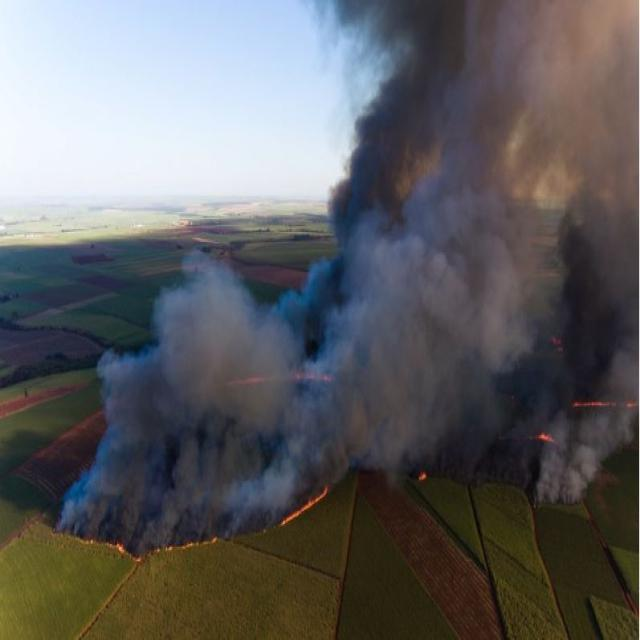Fire: (281, 478, 331, 526), (160, 537, 197, 553), (106, 535, 130, 557), (574, 395, 614, 408), (538, 426, 558, 446)
Smoke: (59, 7, 636, 566), (53, 214, 326, 556), (59, 433, 110, 535)
